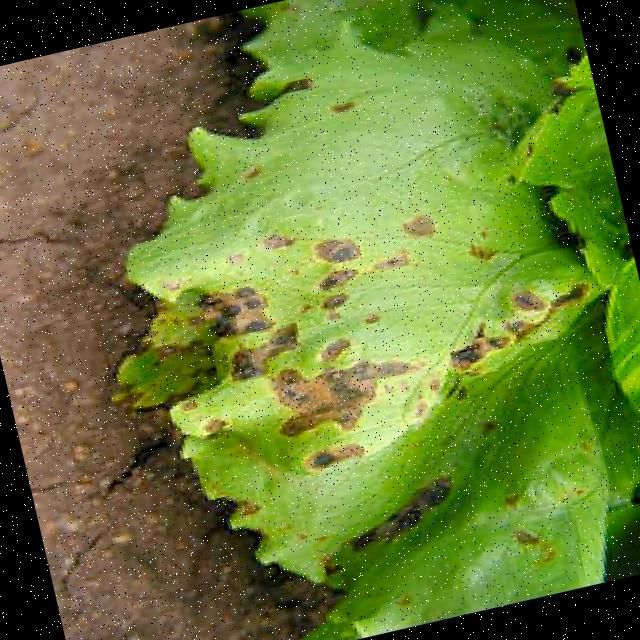Bacterial: (205, 167, 498, 500)
